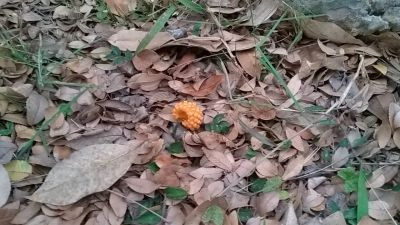eggs: (171, 99, 204, 132)
